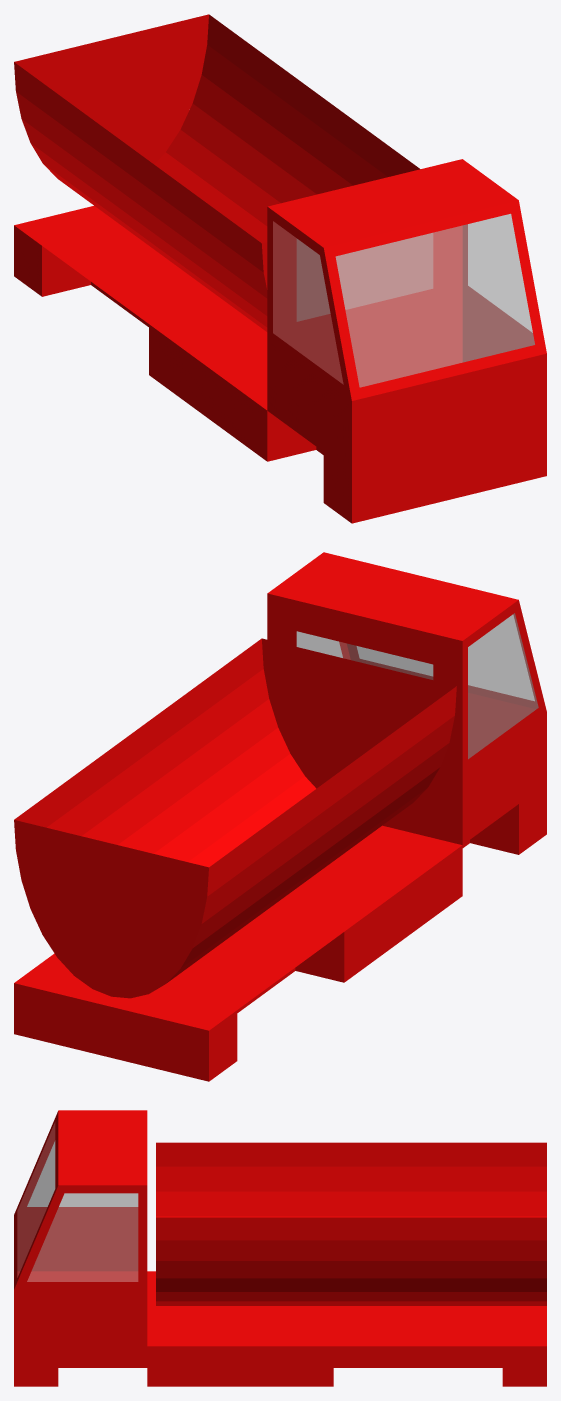
File: DumpTruck.dae
The picture shows the model from 3 angles, top to bottom: view 1: azimuth 30°, elevation 25°; view 2: azimuth 150°, elevation 25°; view 3: azimuth 270°, elevation 25°; orthographic projection. The views are drawn at different scales.
Visible parts, largest first — view 1: Body, Back, BackFlap; view 2: Body, Back, BackFlap; view 3: Back, Body.
Boxes of the visible parts, left/top/right/bottom form: Body: left=14, top=159, right=546, bottom=523; Back: left=14, top=14, right=432, bottom=331; BackFlap: left=14, top=14, right=208, bottom=164; Body: left=14, top=552, right=546, bottom=1081; Back: left=14, top=638, right=456, bottom=983; BackFlap: left=14, top=820, right=208, bottom=998; Back: left=156, top=1142, right=546, bottom=1305; Body: left=14, top=1110, right=546, bottom=1386.
Size of the model in its own units: 2 by 6 by 2.5.
